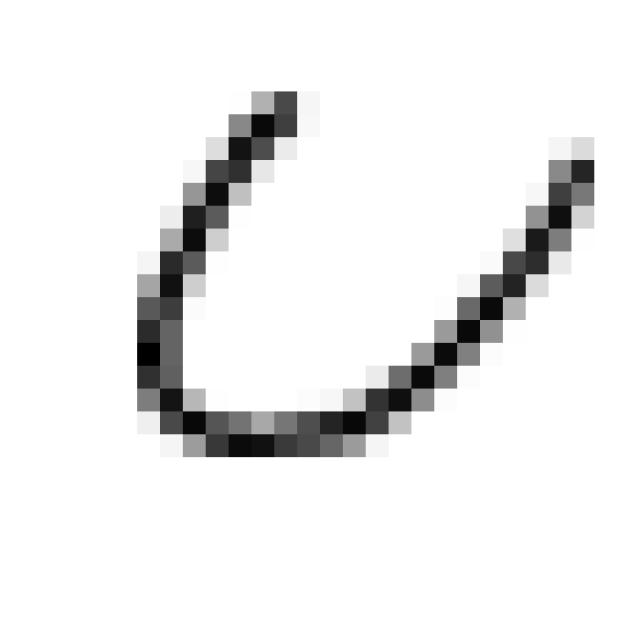7 -seven-: (117, 69, 611, 478)
